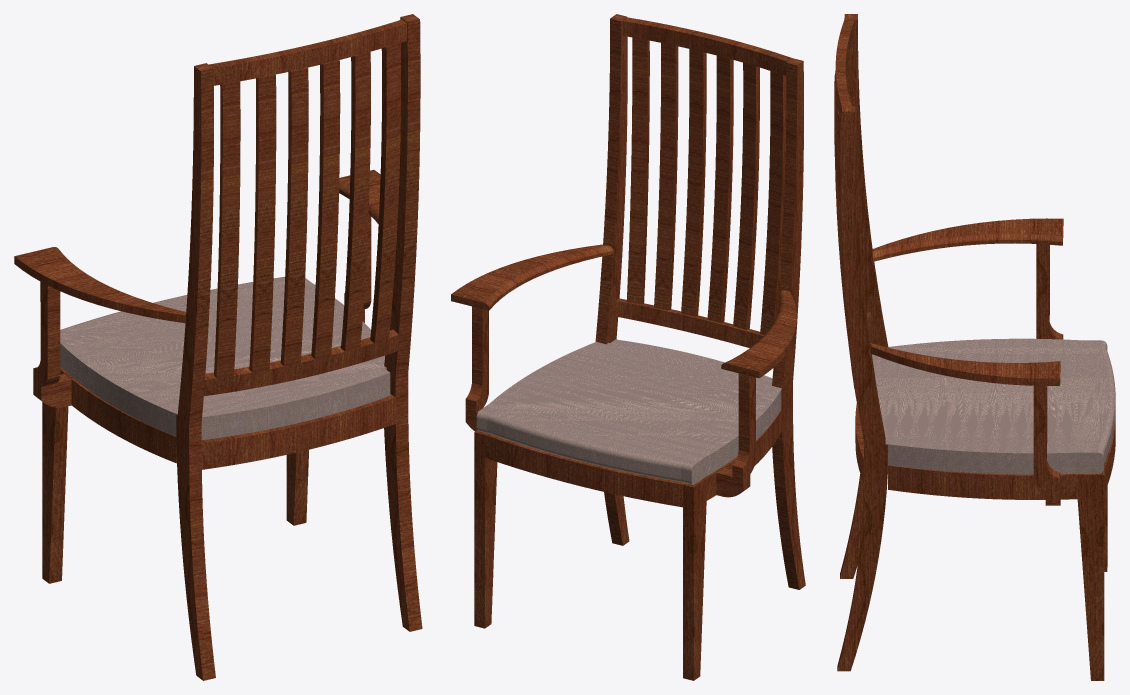
The model's file is chair.dae.
3 views of the same model, side by side, from view 1: azimuth 30°, elevation 25°; view 2: azimuth 150°, elevation 25°; view 3: azimuth 270°, elevation 25° (orthographic). The views are drawn at different scales.
Visible parts, largest first — view 1: group_21, group_3, group_4, group_13, group_16, group_17, group_15, group_14, group_7, group_5, group_10, group_6 (+6 smaller); view 2: group_21, group_3, group_4, group_2, group_14, group_5, group_15, group_16, group_17, group_13, group_6, group_12 (+7 smaller); view 3: group_21, group_4, group_3, group_12, group_11, group_9, group_18, group_23, group_22, group_10, group_5, group_7.
Part boxes in pixels (<box>): group_21: <box>60,276,390,440</box>; group_3: <box>176,63,215,680</box>; group_4: <box>384,14,422,631</box>; group_13: <box>214,81,240,378</box>; group_16: <box>280,67,308,366</box>; group_17: <box>249,74,276,372</box>; group_15: <box>311,60,340,359</box>; group_14: <box>341,52,370,351</box>; group_7: <box>201,394,395,469</box>; group_5: <box>370,42,400,342</box>; group_10: <box>209,19,406,85</box>; group_6: <box>42,402,68,583</box>; group_21: <box>476,339,781,484</box>; group_3: <box>772,58,805,589</box>; group_4: <box>595,14,629,545</box>; group_2: <box>485,433,684,507</box>; group_14: <box>654,43,678,310</box>; group_5: <box>626,37,649,304</box>; group_15: <box>681,49,706,316</box>; group_16: <box>707,55,733,323</box>; group_17: <box>733,62,759,329</box>; group_13: <box>760,71,786,335</box>; group_6: <box>683,477,706,680</box>; group_12: <box>474,430,497,628</box>; group_21: <box>861,338,1115,474</box>; group_4: <box>837,106,887,671</box>; group_3: <box>840,14,888,578</box>; group_12: <box>1077,469,1104,680</box>; group_11: <box>888,465,1077,499</box>; group_9: <box>872,218,1063,261</box>; group_18: <box>870,343,1060,385</box>; group_23: <box>1033,385,1060,505</box>; group_22: <box>1036,244,1063,339</box>; group_10: <box>835,19,854,121</box>; group_5: <box>837,111,856,392</box>; group_7: <box>855,403,863,482</box>.
Bounding box in the file's own units: 28.49 × 21.08 × 46.2.
Materials: 4 (1 with a texture image).
